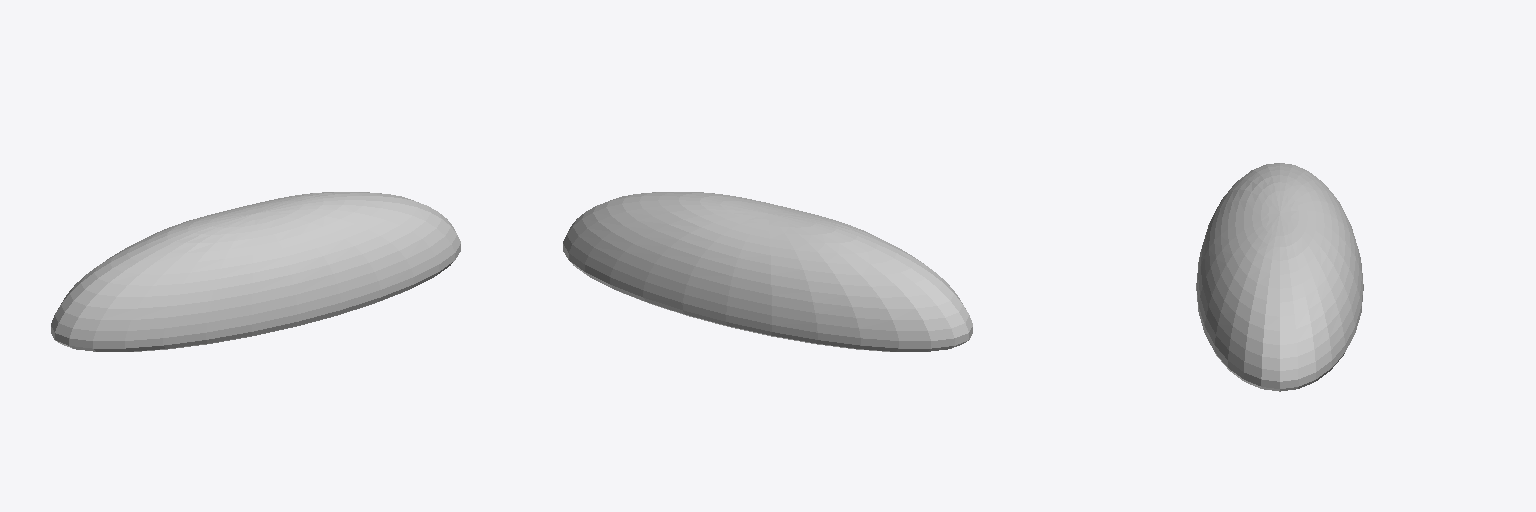
File: bread_02.obj
3 views of the same model, side by side, from view 1: azimuth 30°, elevation 25°; view 2: azimuth 150°, elevation 25°; view 3: azimuth 270°, elevation 25° (orthographic).
Visible parts, largest first — view 1: bread_02; view 2: bread_02; view 3: bread_02.
Boxes of the visible parts, <box> form: bread_02: <box>51,192,460,351</box>; bread_02: <box>563,192,972,351</box>; bread_02: <box>1196,163,1363,391</box>.
Size of the model in its own units: 1.1 by 0.2229 by 0.3963.